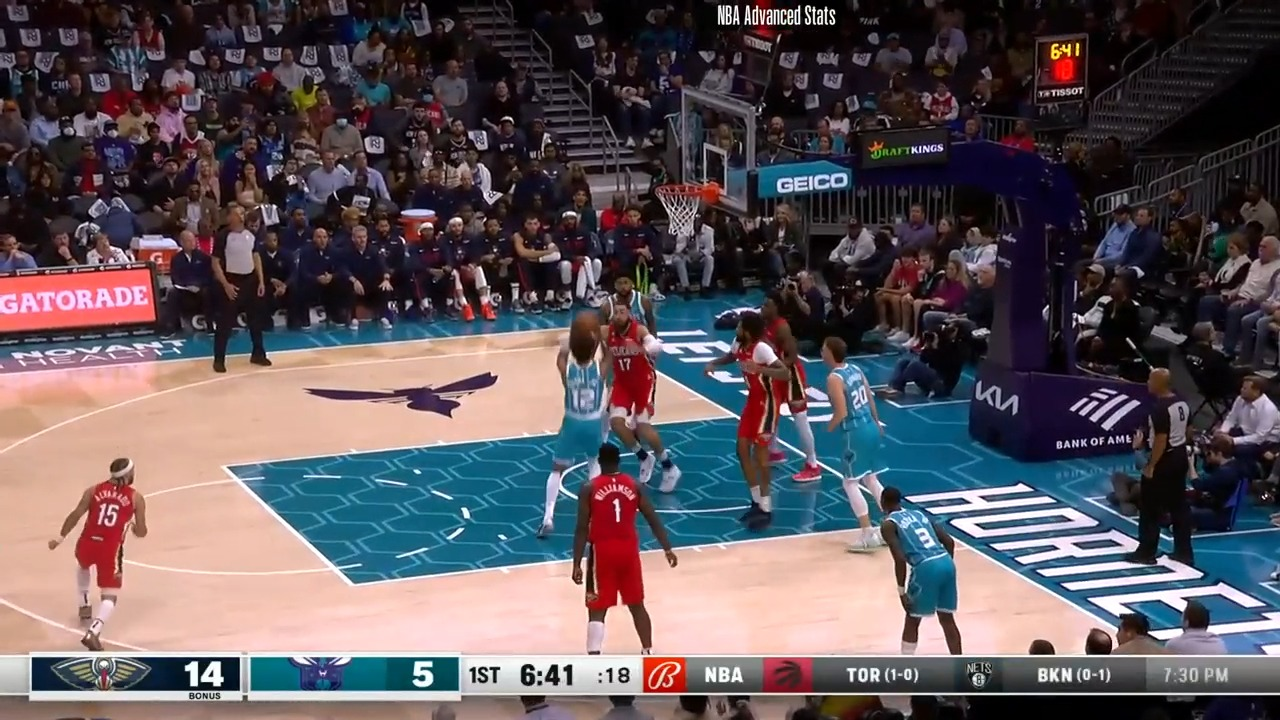net: (655, 173, 726, 238)
player: (576, 430, 674, 654), (53, 454, 156, 653), (860, 476, 967, 654), (816, 332, 898, 557), (535, 320, 617, 542), (716, 308, 794, 538), (597, 299, 678, 490), (748, 296, 825, 487), (605, 270, 658, 338)
referee: (1119, 370, 1198, 573), (214, 203, 277, 377)
